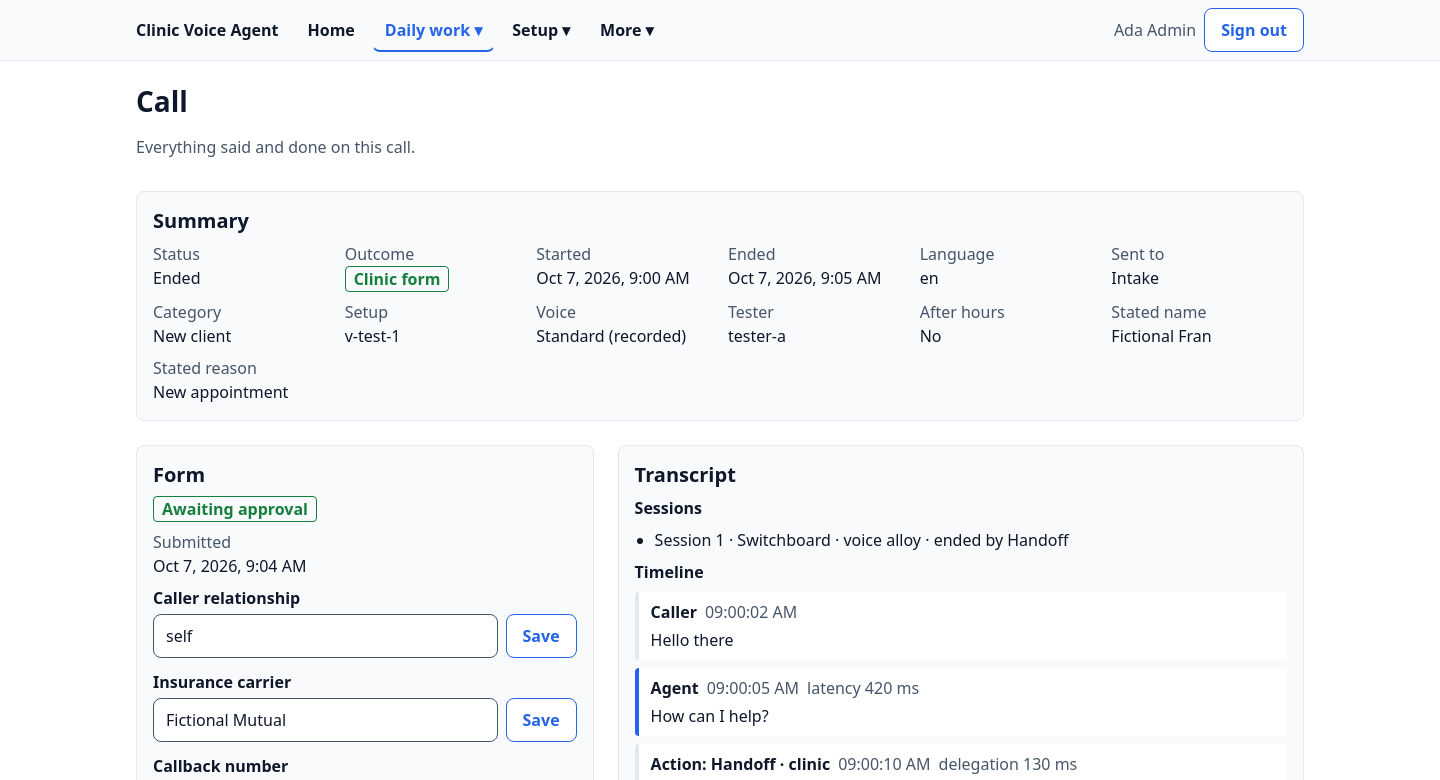
Test case: call detail page › saves an edit with the old value and shows it in the history
Replace the text in the field with test id "field-caller_relationship" with "parent": (325, 636) [153,614,498,658]
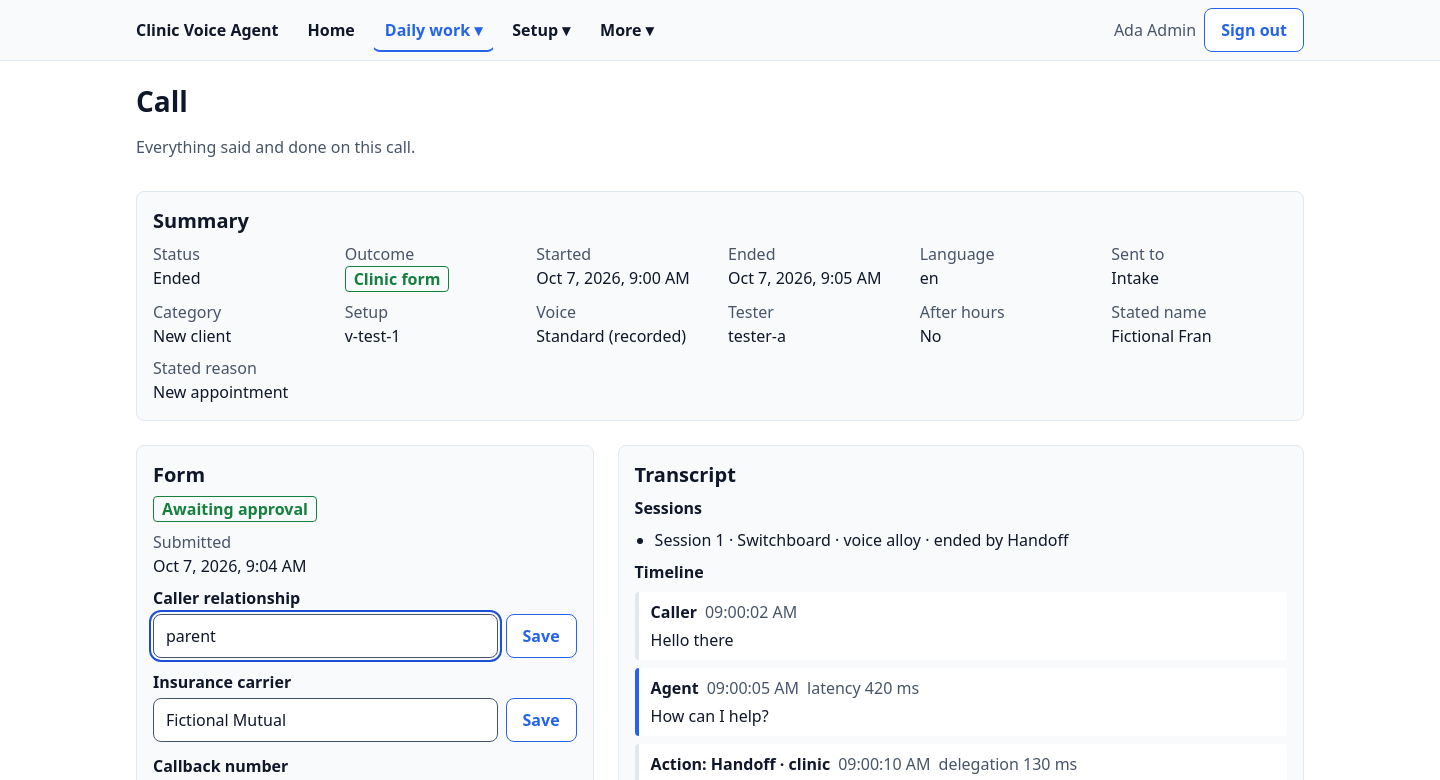
Click the button with test id "field-save-caller_relationship": (541, 636) [506,614,576,658]
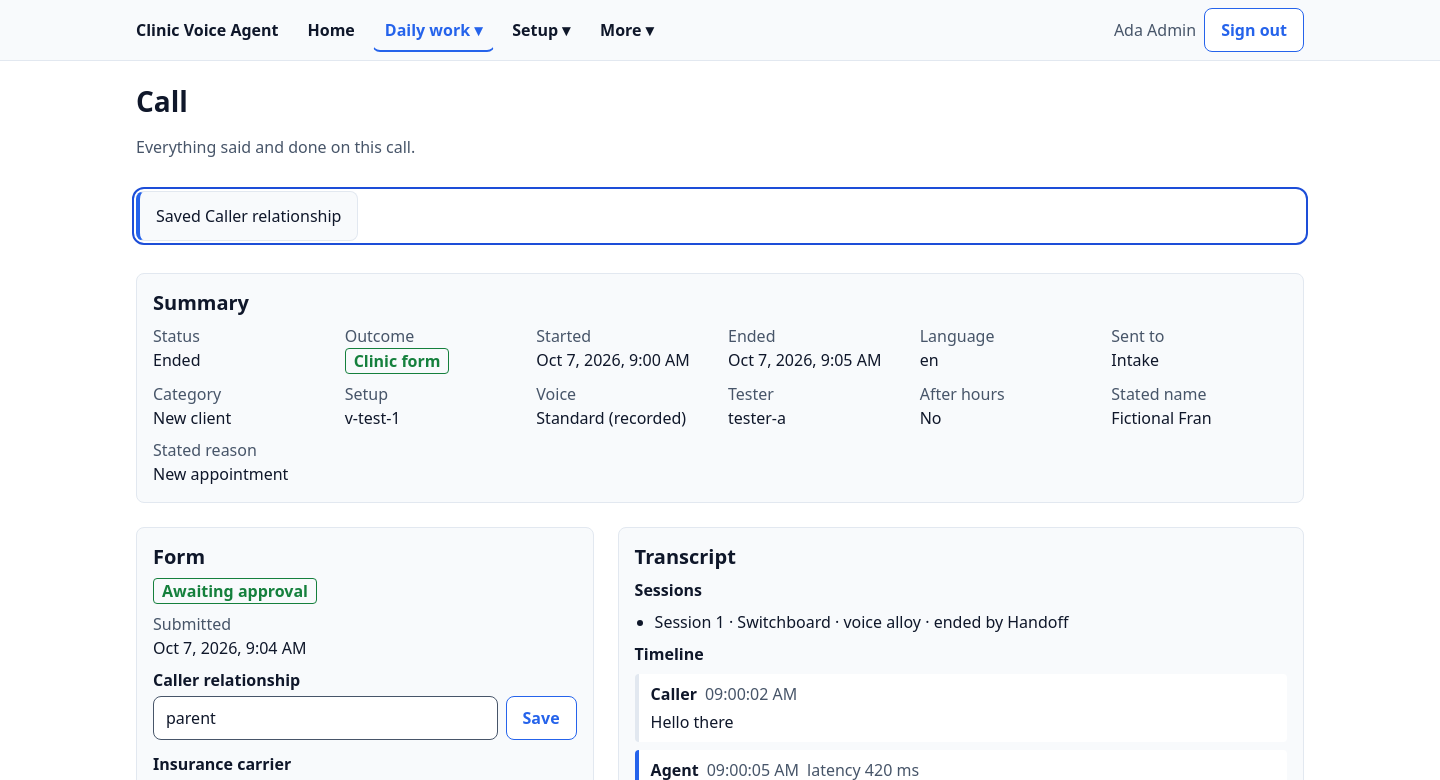
Now the field with test id "field-caller_relationship" holds "parent", box [153,696,498,740]
